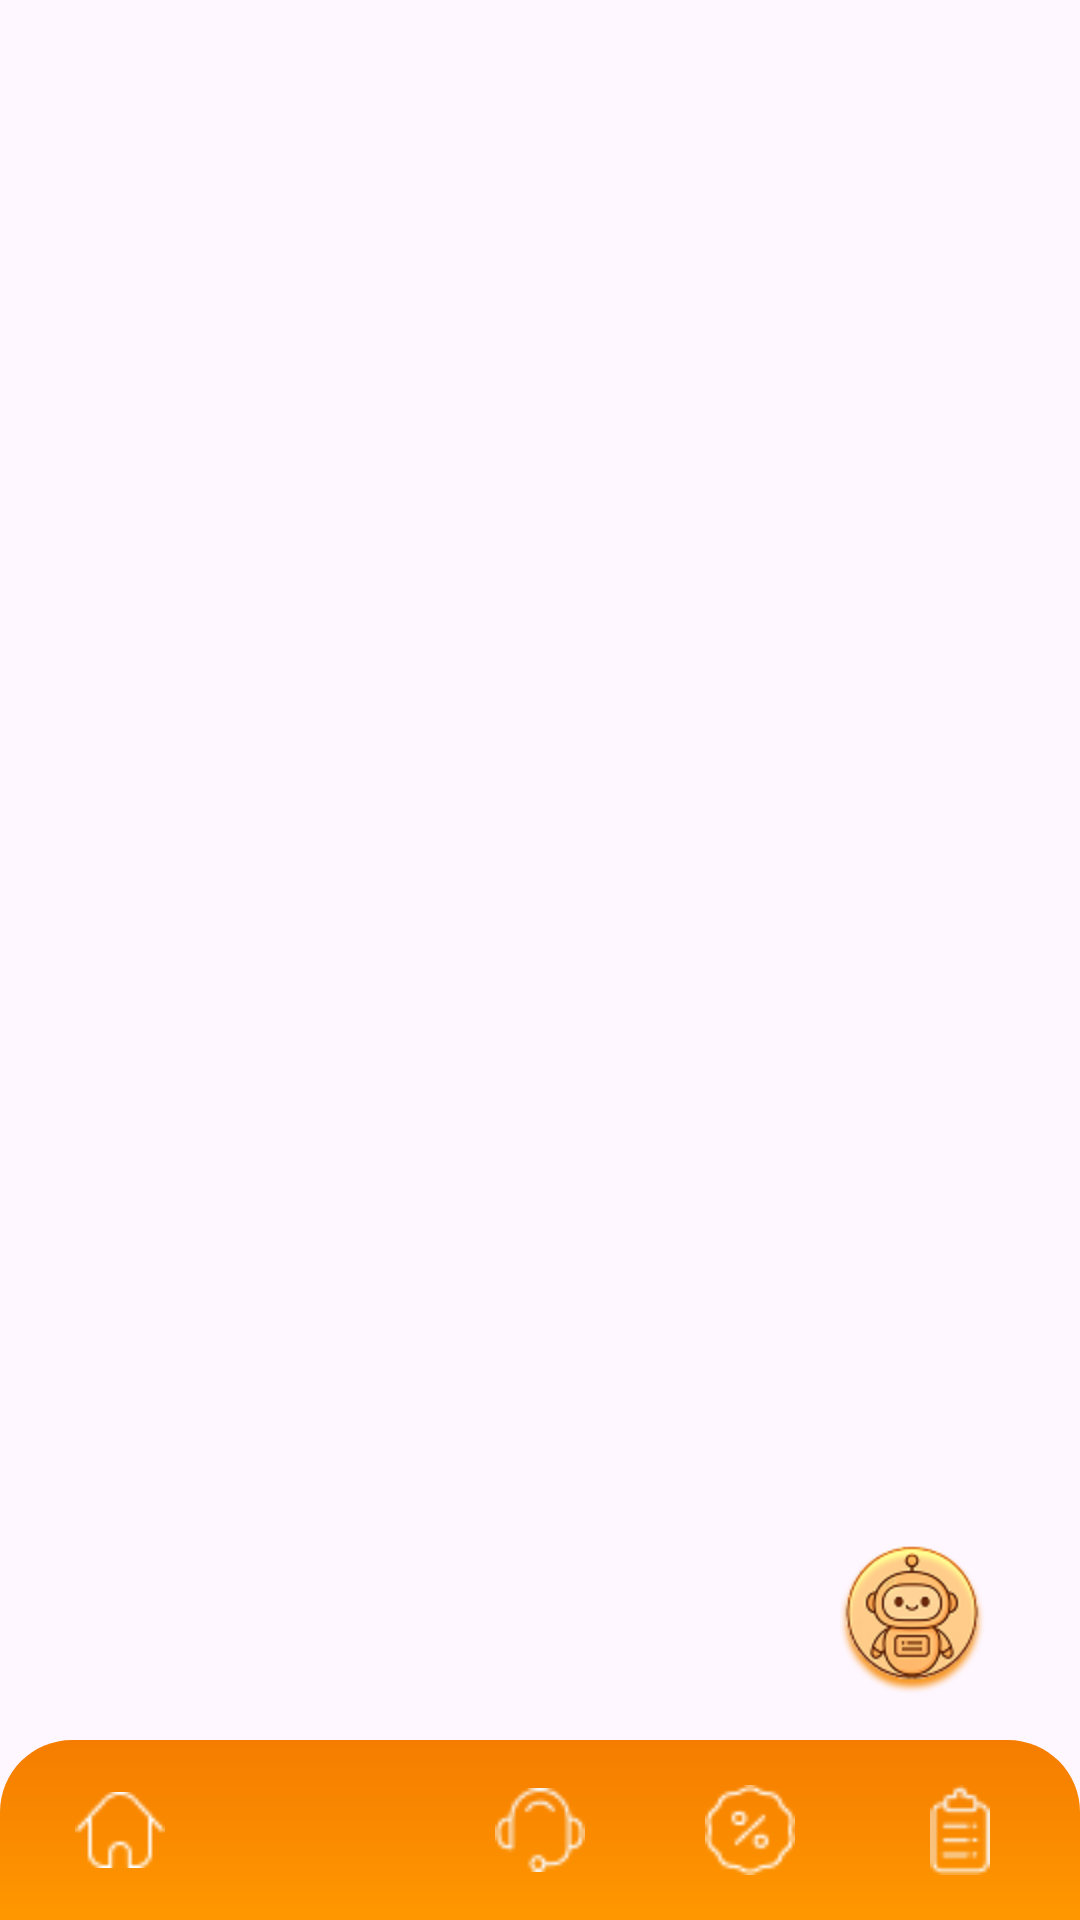

Screen size 1080 × 1920. Icon name, then its center in pixels as point (x, y):
chatbot: point (912, 1618)
